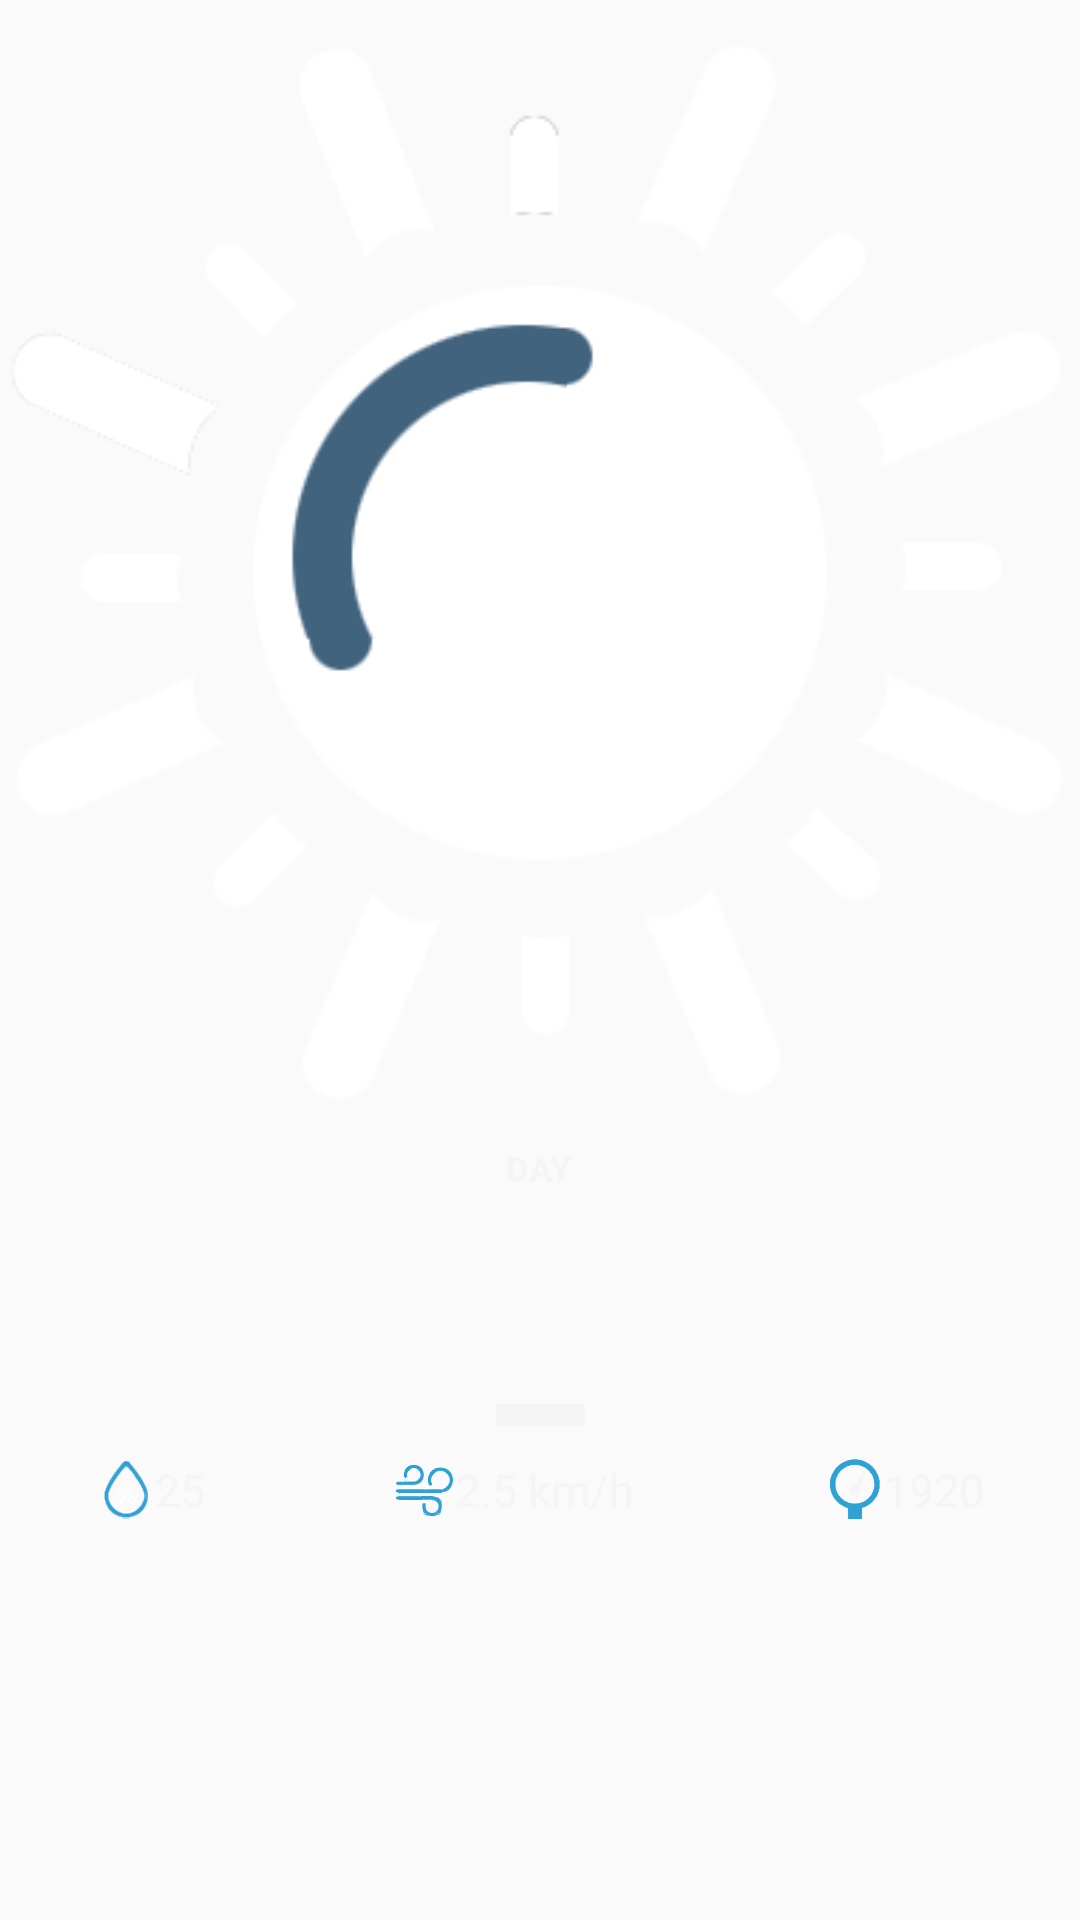

Icons on this 1080 x 1920 Android screen, each with the point to tap as (x,y):
humidity: (126,1490)
pressure: (855,1489)
wind speed: (424,1490)
